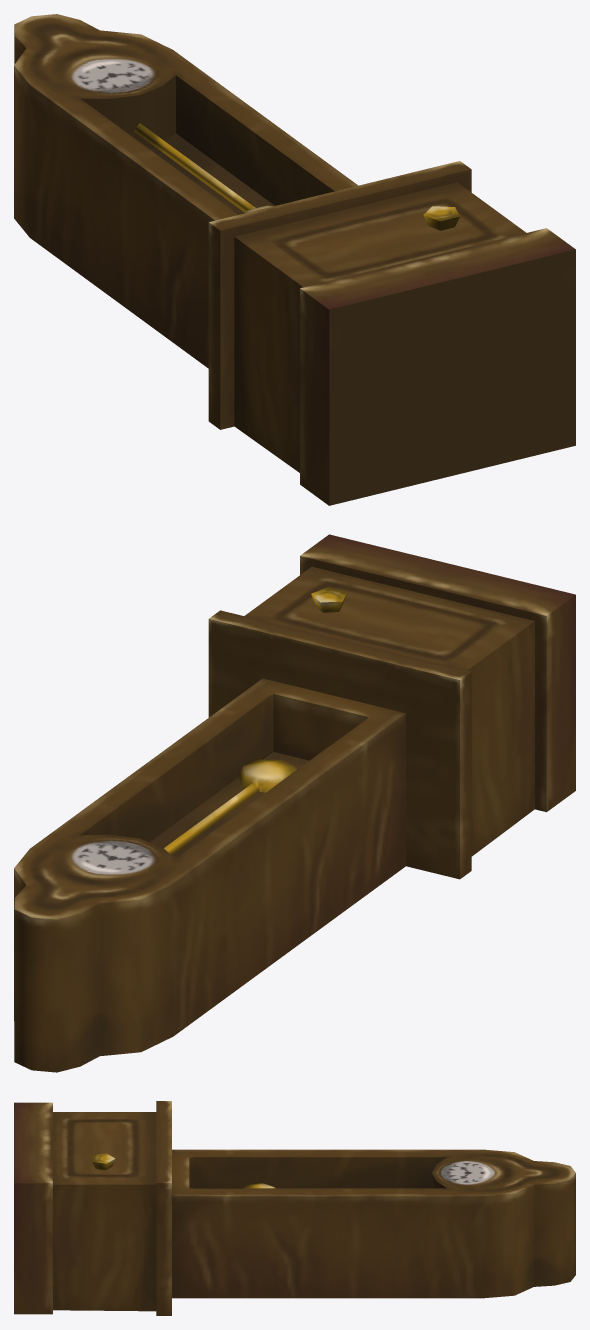
The model's file is props_clock.fbx.
The picture shows the model from 3 angles, top to bottom: view 1: azimuth 30°, elevation 25°; view 2: azimuth 150°, elevation 25°; view 3: azimuth 270°, elevation 25°; orthographic projection. The views are drawn at different scales.
Visible parts, largest first — view 1: clock; view 2: clock; view 3: clock.
Boxes of the visible parts, x1,y1,x2,y2 form: clock: [14, 14, 575, 505]; clock: [14, 534, 575, 1072]; clock: [14, 1101, 575, 1315].
Bounding box in the file's own units: 0.7004 × 0.5372 × 2.03.
Materials: 1 (1 with a texture image).
